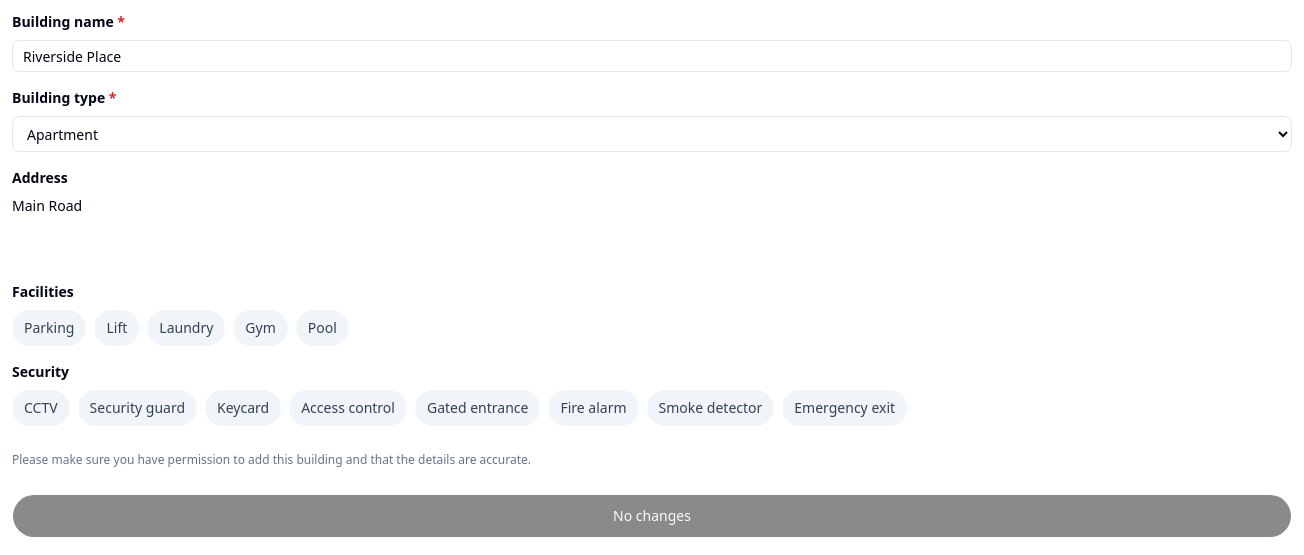
Test: BuildingForm › submits only changed fields in edit mode
The width and height of the screenshot is (1304, 555).
Expected: the button "No changes" is disabled, [12,494,1292,538]
Click the button "Lift": (117, 328) [94,310,139,346]
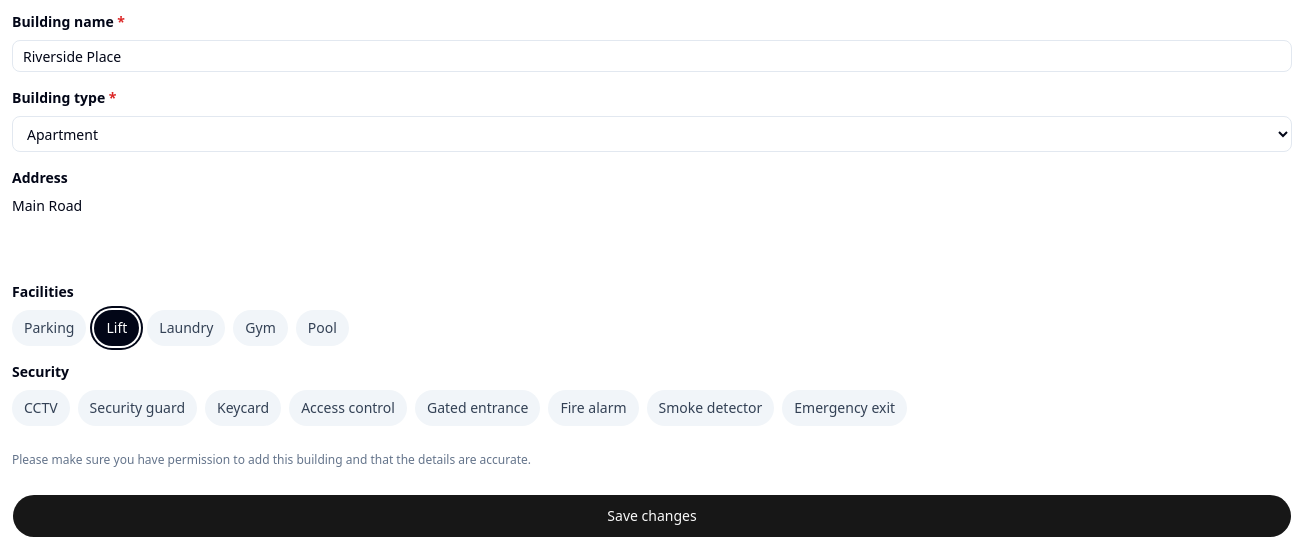
Click the button "Save changes": (652, 516) [12,494,1292,538]
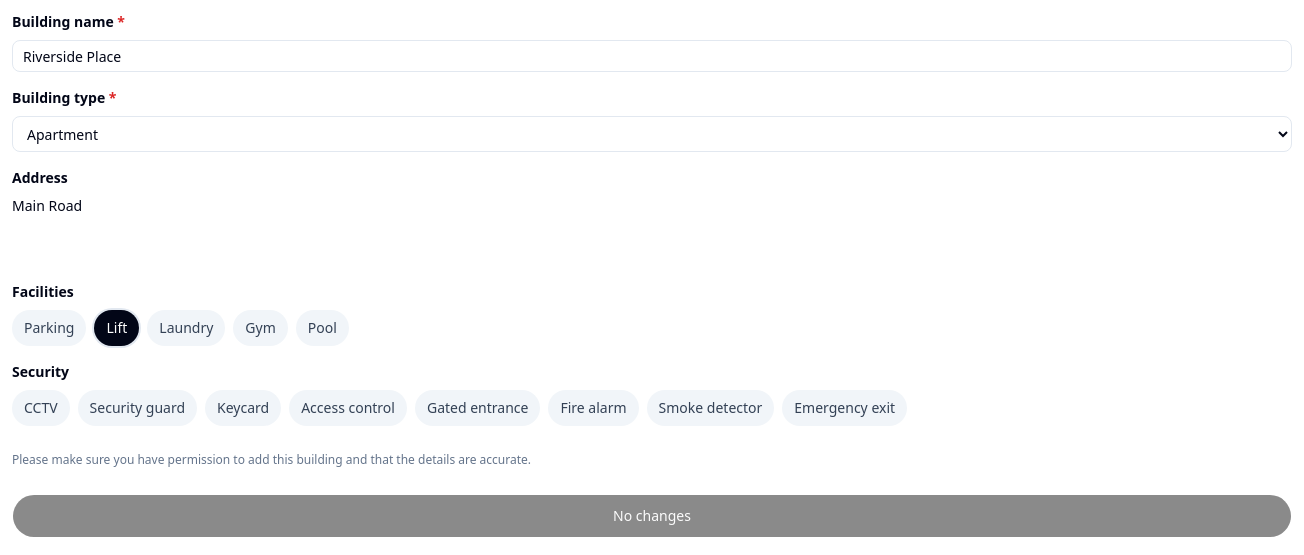
Result: the button "No changes" is disabled at [12,494,1292,538]
